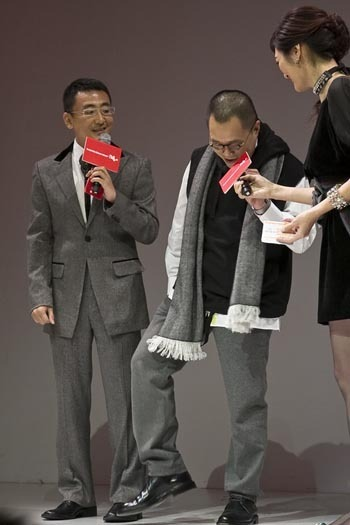other: (119, 86, 309, 521), (25, 73, 165, 525), (233, 10, 350, 464)
